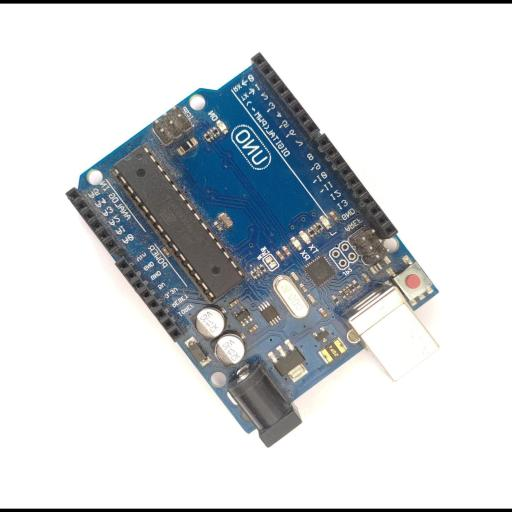Arduino Uno R3: (64, 51, 442, 448)
